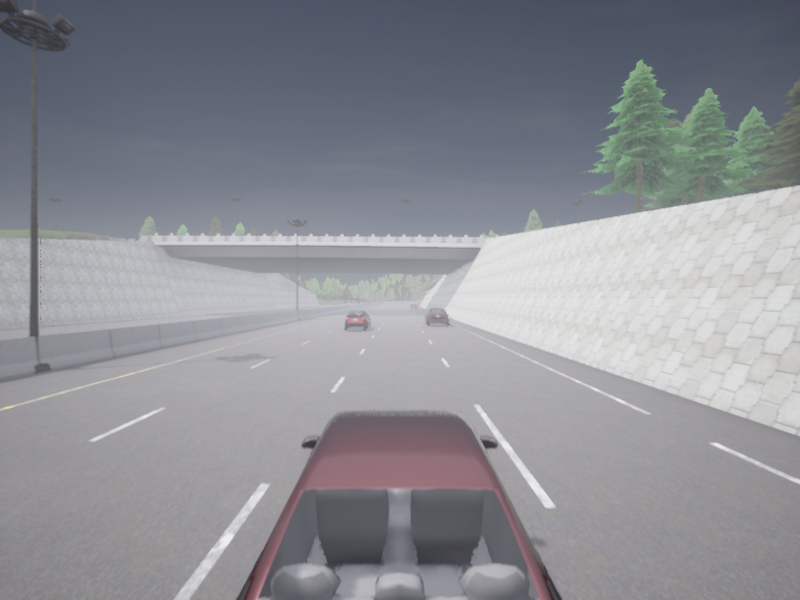vehicle: (236, 409, 562, 599), (345, 311, 370, 329), (424, 308, 448, 325), (410, 303, 416, 308)
